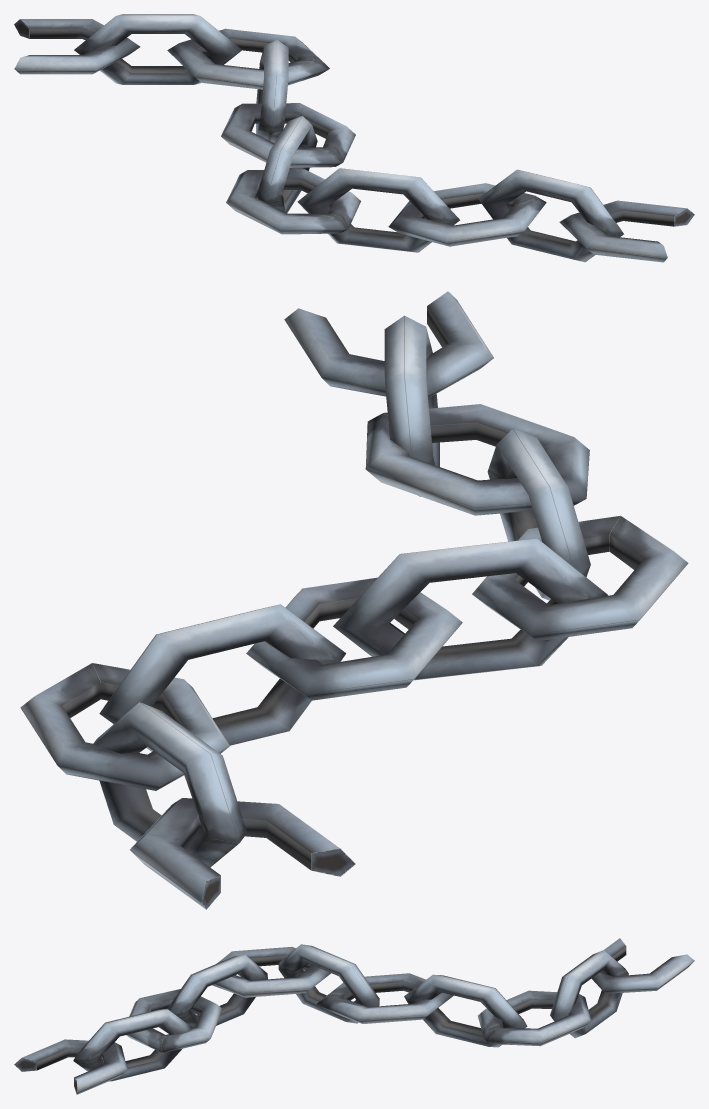
File: deco_chains2.fbx
The picture shows the model from 3 angles, top to bottom: view 1: azimuth 30°, elevation 25°; view 2: azimuth 150°, elevation 25°; view 3: azimuth 270°, elevation 25°; orthographic projection. The views are drawn at different scales.
Parts seen in each view (by area): view 1: Torus039; view 2: Torus039; view 3: Torus039.
Boxes of the visible parts, left/top/right/bottom form: Torus039: left=14, top=14, right=694, bottom=262; Torus039: left=20, top=291, right=688, bottom=909; Torus039: left=14, top=938, right=694, bottom=1094.
Bounding box in the file's own units: 21.97 × 4.16 × 42.37.
